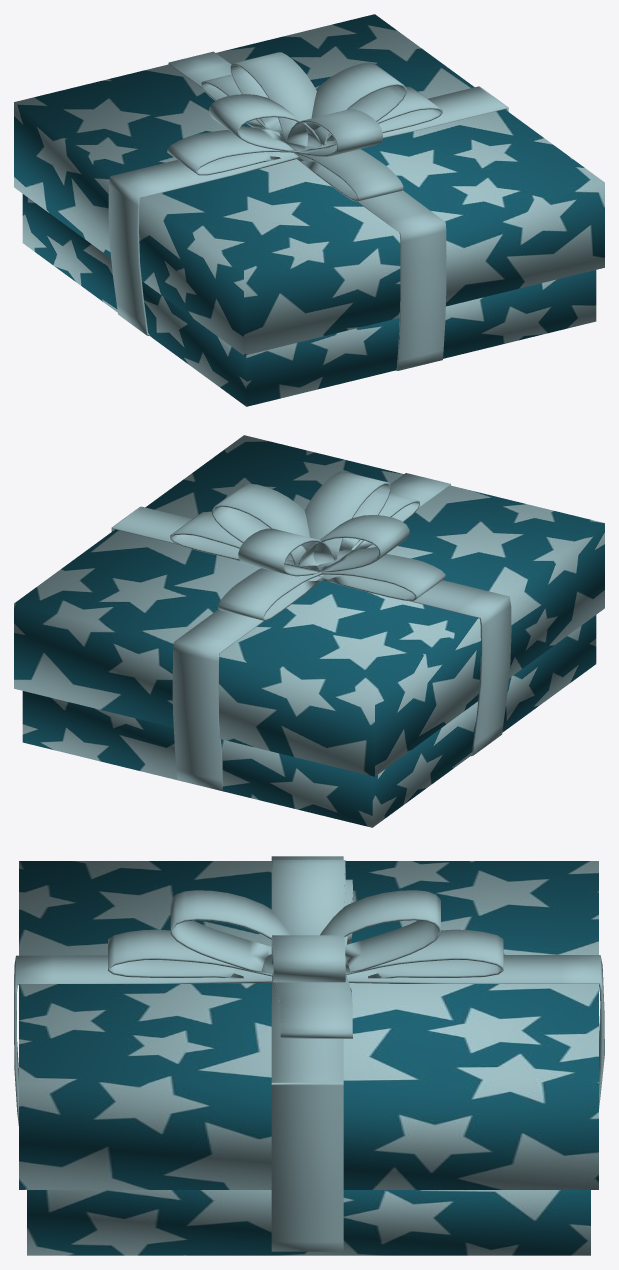
Rendered from gift.fbx.
3 views of the same model, one above another, from view 1: azimuth 30°, elevation 25°; view 2: azimuth 150°, elevation 25°; view 3: azimuth 270°, elevation 25° (orthographic). The views are drawn at different scales.
Visible parts, largest first — view 1: giftbox_cap, ribbon.003, giftbox; view 2: giftbox_cap, ribbon.003, giftbox; view 3: giftbox_cap, ribbon.003, giftbox.
Part boxes in pixels (box(x1,y1,x2,y2)): giftbox_cap: box(14, 14, 604, 355); ribbon.003: box(108, 51, 508, 370); giftbox: box(22, 194, 596, 406); giftbox_cap: box(14, 435, 604, 776); ribbon.003: box(111, 471, 511, 790); giftbox: box(22, 615, 596, 827); giftbox_cap: box(19, 861, 598, 1189); ribbon.003: box(14, 856, 604, 1251); giftbox: box(27, 1190, 590, 1255).
Bounding box in the file's own units: 1.98 × 0.983 × 2.17.
